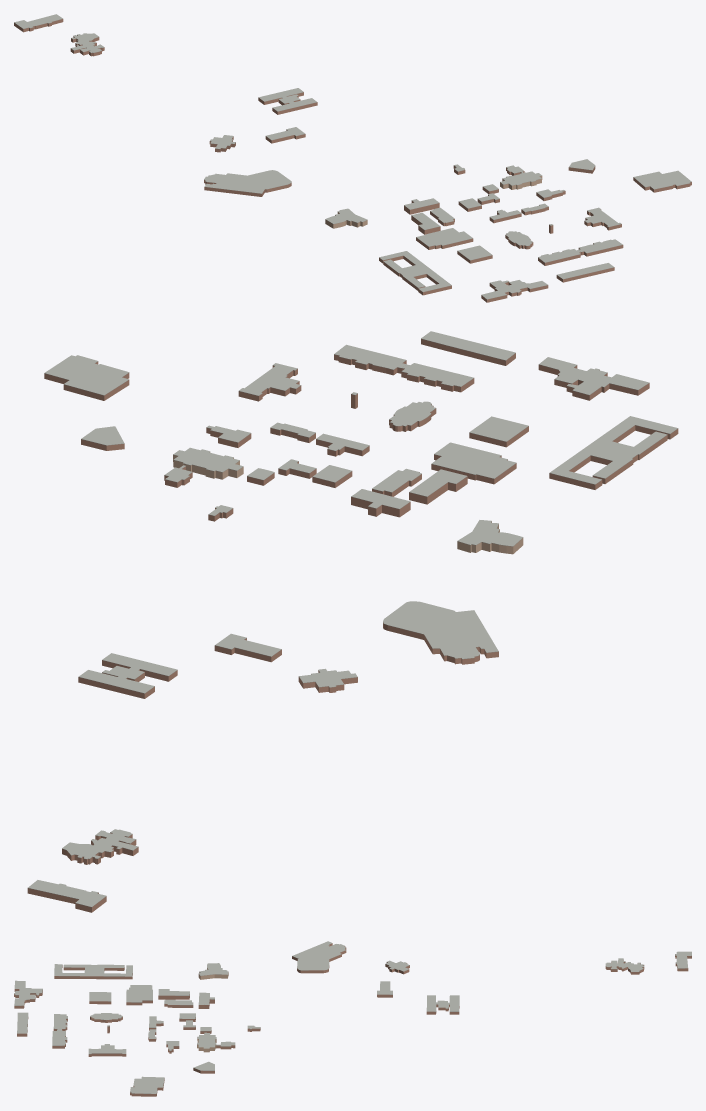
The model's file is campus.glb.
3 views of the same model, one above another, from view 1: azimuth 30°, elevation 25°; view 2: azimuth 150°, elevation 25°; view 3: azimuth 270°, elevation 25° (orthographic). The views are drawn at different scales.
Visible parts, largest first — view 1: health-physical-education-and-recreation-hper-building-roof, harrold-complex-roof, hazzard-building-military-science-roof, la-davis-student-union-roof, delta-housing-complex-roof, rust-technology-building-roof, harrold-complex-walls; view 2: health-physical-education-and-recreation-hper-building-roof, harrold-complex-roof, hazzard-building-military-science-roof, la-davis-student-union-roof, delta-housing-complex-roof, rust-technology-building-roof, harrold-complex-walls, parker-1890-complex-roof, human-sciences-building-roof, caldwell-hall-roof, stem-building-roof, corbin-hall-roof (+4 smaller); view 3: health-physical-education-and-recreation-hper-building-roof, harrold-complex-roof, hazzard-building-military-science-roof, la-davis-student-union-roof, delta-housing-complex-roof, rust-technology-building-roof, harrold-complex-walls, parker-1890-complex-roof, caldwell-hall-roof, human-sciences-building-roof.
Boxes of the visible parts, x1=… form: health-physical-education-and-recreation-hper-building-roof: x1=204, y1=170, x2=291, y2=193; harrold-complex-roof: x1=379, y1=251, x2=451, y2=292; hazzard-building-military-science-roof: x1=633, y1=170, x2=691, y2=189; la-davis-student-union-roof: x1=416, y1=228, x2=472, y2=246; delta-housing-complex-roof: x1=258, y1=88, x2=317, y2=111; rust-technology-building-roof: x1=481, y1=280, x2=547, y2=299; harrold-complex-walls: x1=379, y1=255, x2=451, y2=295; health-physical-education-and-recreation-hper-building-roof: x1=383, y1=601, x2=498, y2=659; harrold-complex-roof: x1=549, y1=416, x2=678, y2=484; hazzard-building-military-science-roof: x1=44, y1=355, x2=129, y2=395; la-davis-student-union-roof: x1=431, y1=442, x2=516, y2=478; delta-housing-complex-roof: x1=78, y1=653, x2=177, y2=693; rust-technology-building-roof: x1=539, y1=357, x2=649, y2=395; harrold-complex-walls: x1=549, y1=425, x2=678, y2=489; parker-1890-complex-roof: x1=62, y1=829, x2=138, y2=859; human-sciences-building-roof: x1=173, y1=447, x2=243, y2=472; caldwell-hall-roof: x1=239, y1=363, x2=300, y2=395; stem-building-roof: x1=457, y1=520, x2=523, y2=546; corbin-hall-roof: x1=421, y1=331, x2=515, y2=360; health-physical-education-and-recreation-hper-building-roof: x1=292, y1=941, x2=345, y2=970; harrold-complex-roof: x1=54, y1=964, x2=132, y2=976; hazzard-building-military-science-roof: x1=130, y1=1076, x2=164, y2=1093; la-davis-student-union-roof: x1=126, y1=985, x2=152, y2=1002; delta-housing-complex-roof: x1=426, y1=995, x2=459, y2=1011; rust-technology-building-roof: x1=14, y1=980, x2=42, y2=1005; harrold-complex-walls: x1=54, y1=965, x2=132, y2=979; parker-1890-complex-roof: x1=605, y1=958, x2=644, y2=971; caldwell-hall-roof: x1=88, y1=1044, x2=126, y2=1054; human-sciences-building-roof: x1=197, y1=1032, x2=216, y2=1048.
Size of the model in its own units: 723 by 15.35 by 1356.
